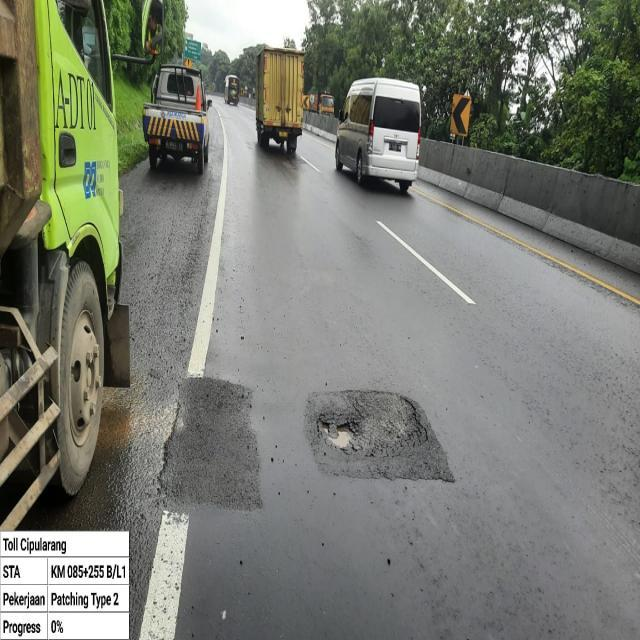Buraco: (310, 387, 432, 461)
